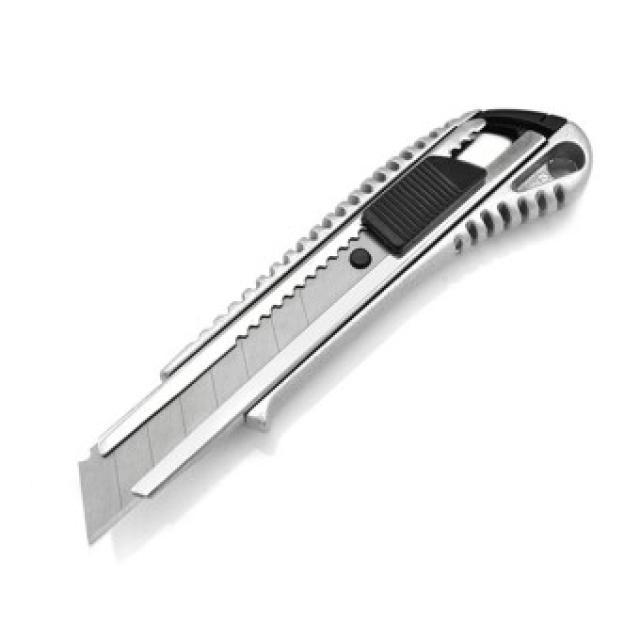cutter: (59, 106, 603, 558)
